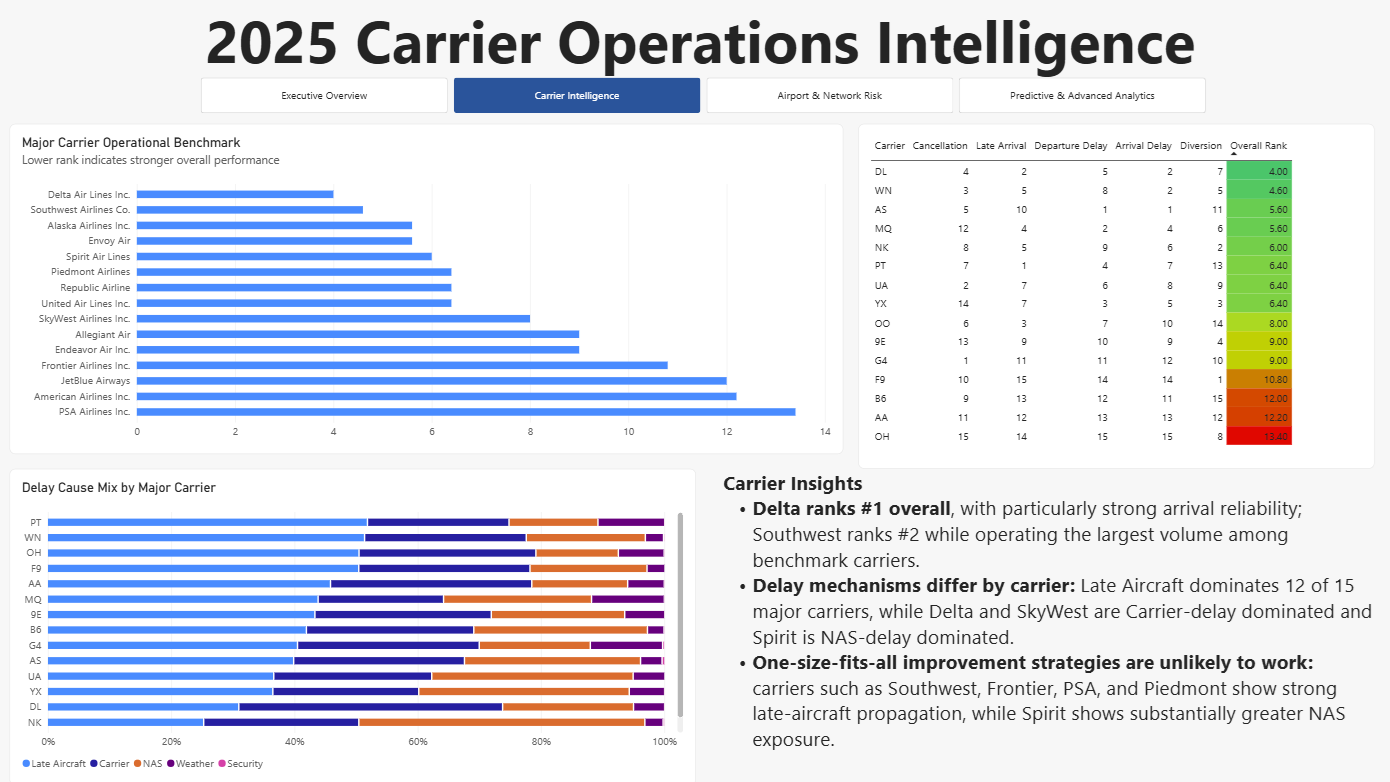

Layout of this report page (visuals, bound fields, positions):
{"tool":"powerbi","page":{"name":"Carrier Intelligence","canvas":[1920,1080],"ordinal":1},"visuals":[{"type":"textbox","box":[9.9,0,1910.5,106.6],"z":0},{"type":"clusteredBarChart","title":"Major Carrier Operational Benchmark","fields":{"Category":["Annual Carrier Benchmark 2025.operating_carrier_name"],"Y":["Sum(Annual Carrier Benchmark 2025.average_operational_rank)"]},"box":[17.8,169.7,1144.7,453.9],"z":1000},{"type":"tableEx","fields":{"Values":["Annual Carrier Benchmark 2025.operating_carrier","Sum(Annual Carrier Benchmark 2025.cancellation_rank)","Sum(Annual Carrier Benchmark 2025.late_arrival_rank)","Sum(Annual Carrier Benchmark 2025.departure_delay_rank)","Sum(Annual Carrier Benchmark 2025.arrival_delay_rank)","Sum(Annual Carrier Benchmark 2025.diversion_rank)","Sum(Annual Carrier Benchmark 2025.average_operational_rank)"]},"box":[1182.2,169.7,708.6,473.7],"z":2000},{"type":"hundredPercentStackedBarChart","title":"Delay Cause Mix by Major Carrier","fields":{"Category":["Annual Carrier Delay Profile 2025.operating_carrier"],"Y":["Sum(Annual Carrier Delay Profile 2025.late_aircraft_share_pct)","Sum(Annual Carrier Delay Profile 2025.carrier_share_pct)","Sum(Annual Carrier Delay Profile 2025.nas_share_pct)","Sum(Annual Carrier Delay Profile 2025.weather_share_pct)","Sum(Annual Carrier Delay Profile 2025.security_share_pct)"]},"box":[17.2,643.5,942.2,435.9],"z":3000},{"type":"textbox","box":[996.7,643.4,894.1,418.4],"z":4000},{"type":"pageNavigator","box":[280.3,106.6,1383.6,49.3],"z":4001}]}

Visuals, with their boxes in screenshot pixels (x1, y1, x2, y2), scaled from the page's 1920x1080 canvas onto the 1390x782 screenshot:
textbox: (7,0,1389,77)
"Major Carrier Operational Benchmark" clusteredBarChart: (13,123,842,452)
tableEx - Annual Carrier Benchmark 2025.operating_carrier x Sum(Annual Carrier Benchmark 2025.cancellation_rank): (856,123,1369,466)
"Delay Cause Mix by Major Carrier" hundredPercentStackedBarChart: (12,466,695,781)
textbox: (722,466,1369,769)
pageNavigator: (203,77,1205,113)
